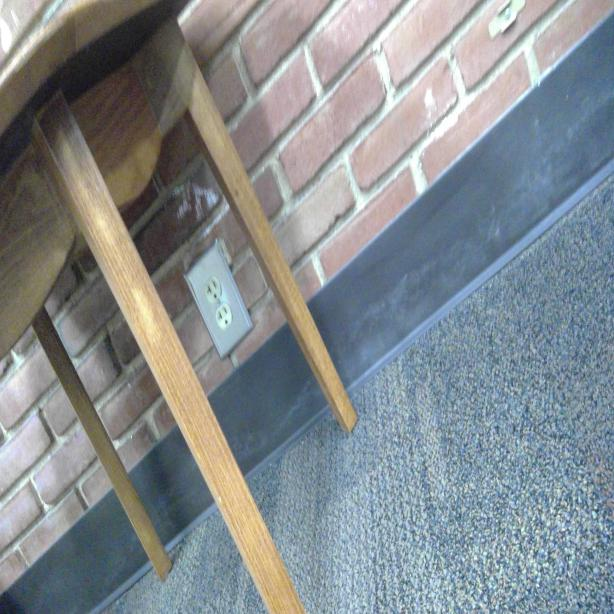typeb: (203, 276, 221, 304), (216, 306, 232, 329)
